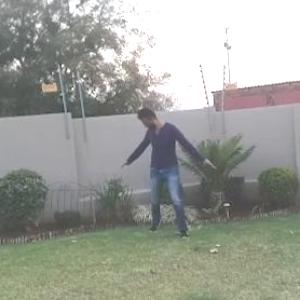land: (110, 104, 219, 246)
